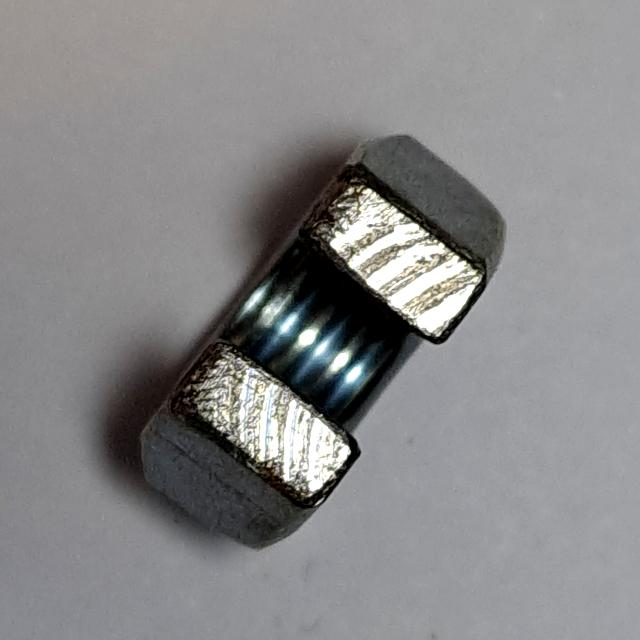Side-Fracture: (126, 119, 528, 570)
